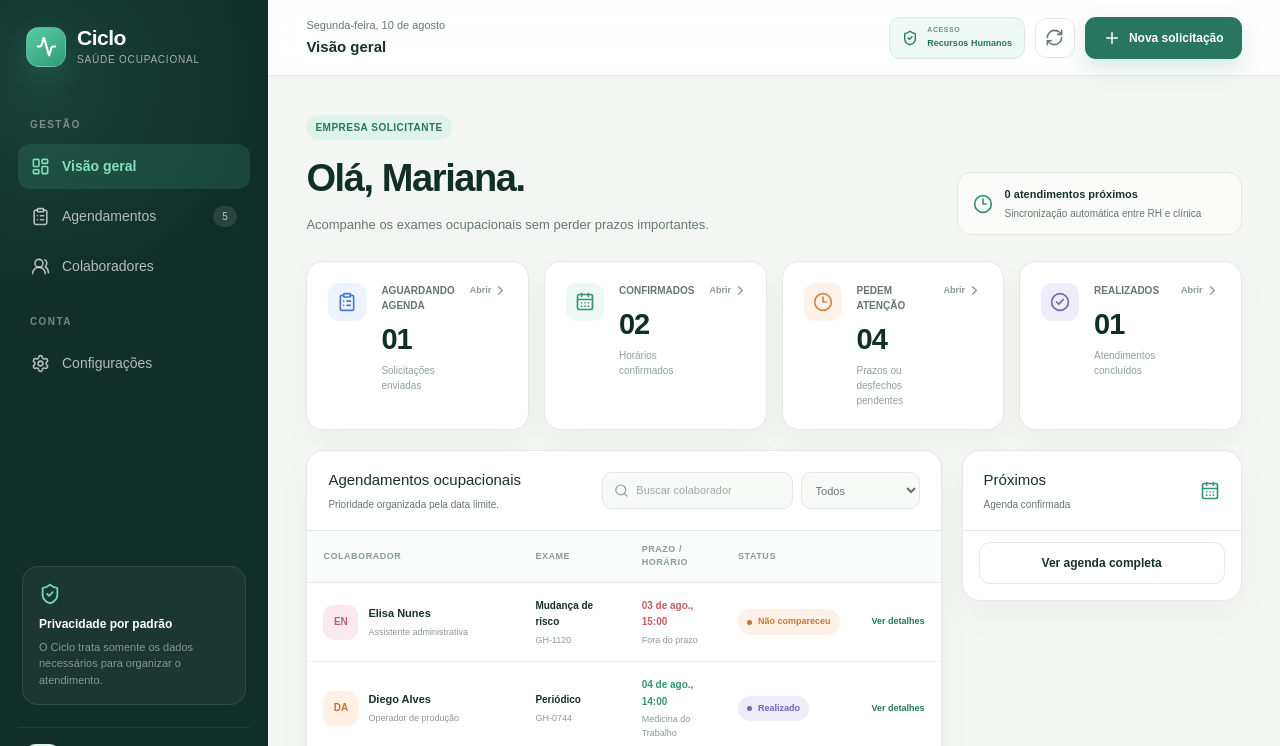
Navegação do painel › mostra as áreas permitidas para o usuário de RH
Click the button "Colaboradores". click: coordinates (134, 267)
box: top-left (18, 244), bottom-right (250, 289)
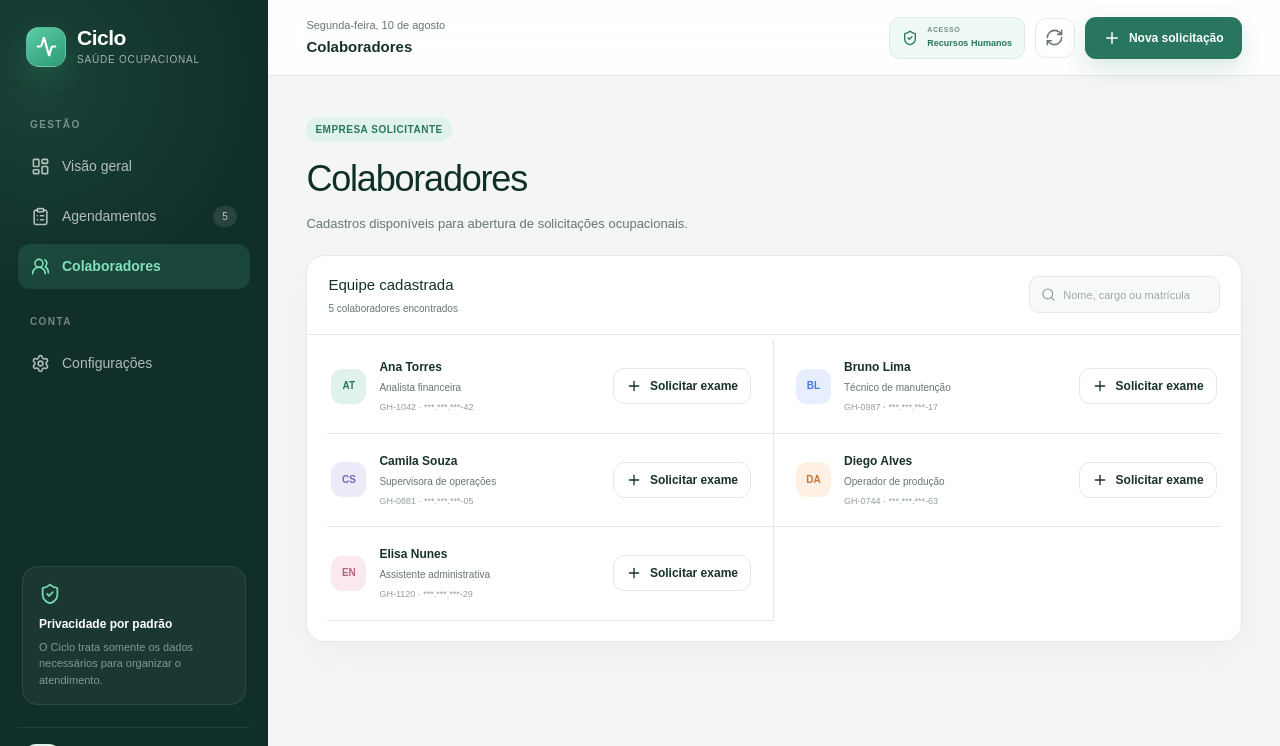
Expected: the heading "Colaboradores" is shown, top-left (306, 158), bottom-right (527, 199)
